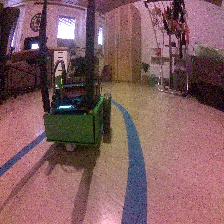rob: (42, 56, 111, 152)
